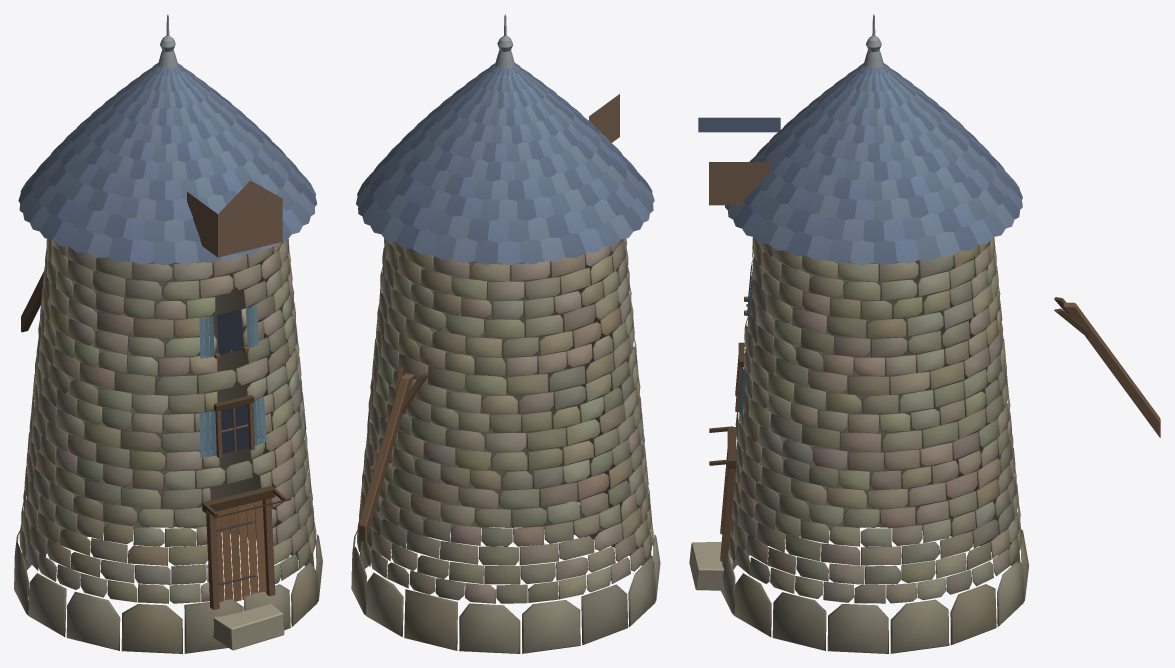
File: mill_lake.glb
3 renders of one model, left to right at view 1: azimuth 30°, elevation 25°; view 2: azimuth 150°, elevation 25°; view 3: azimuth 270°, elevation 25°, orthographic.
Visible parts, largest first — view 1: mill_lake_LOD0; view 2: mill_lake_LOD0; view 3: mill_lake_LOD0.
Part boxes in pixels (bbox=[...]): mill_lake_LOD0: bbox=[14, 14, 322, 653]; mill_lake_LOD0: bbox=[351, 14, 660, 653]; mill_lake_LOD0: bbox=[689, 14, 1160, 653].
Size of what is drawn, in the model's own units: 6.47 by 13.3 by 9.86.
